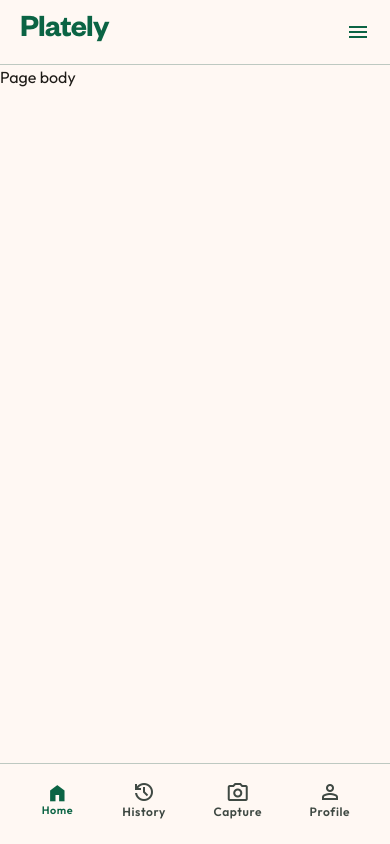
Test case: AppShell › closes the mobile menu when the route changes
Click the button named "toggle menu".
click(358, 32)  # box [338,12,378,52]
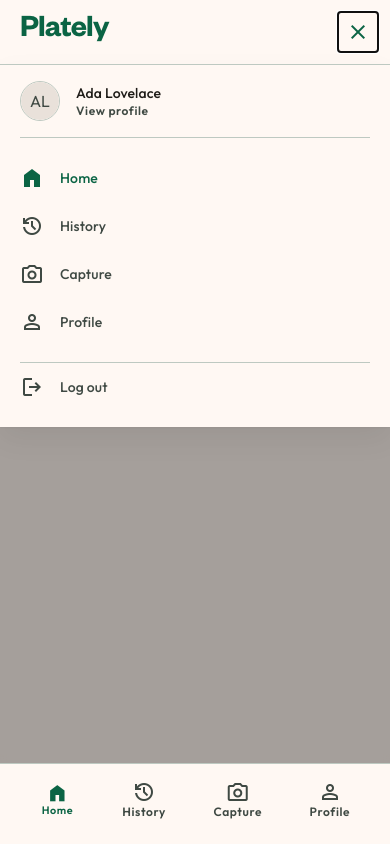
Result: the text "View profile" is shown at [76,103,161,119]
Result: the button named "toggle menu" is expanded
Click the button named "toggle menu".
click(358, 32)  # box [338,12,378,52]
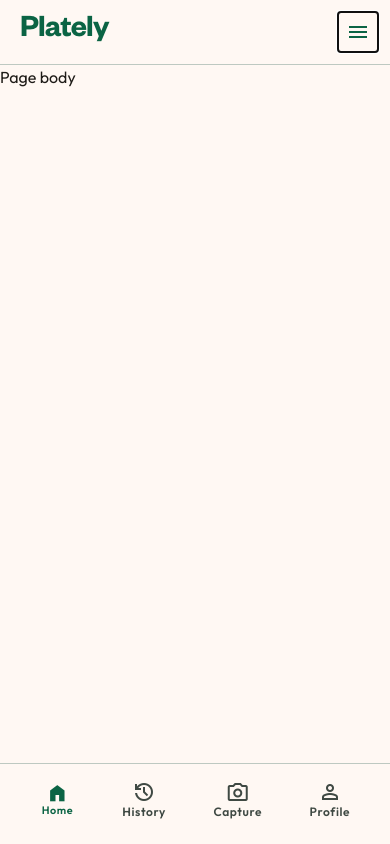
Result: the link "View profile" is gone
